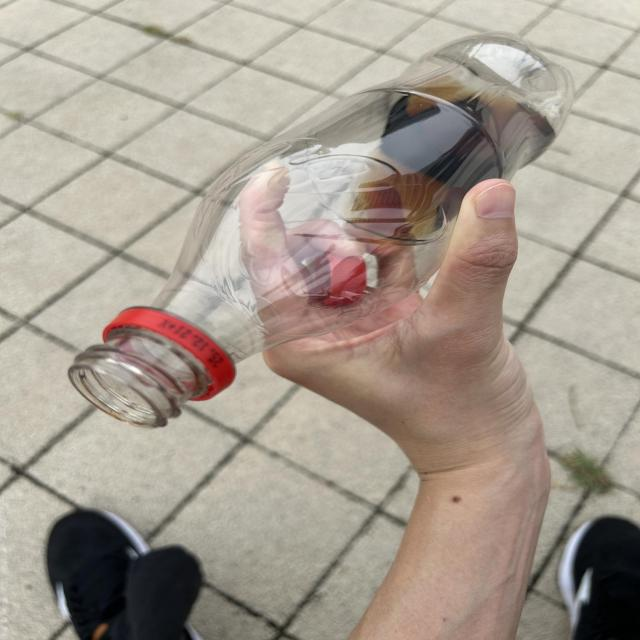low: (69, 33, 572, 427)
